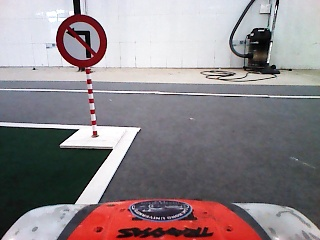ban_left: (56, 15, 109, 68)
